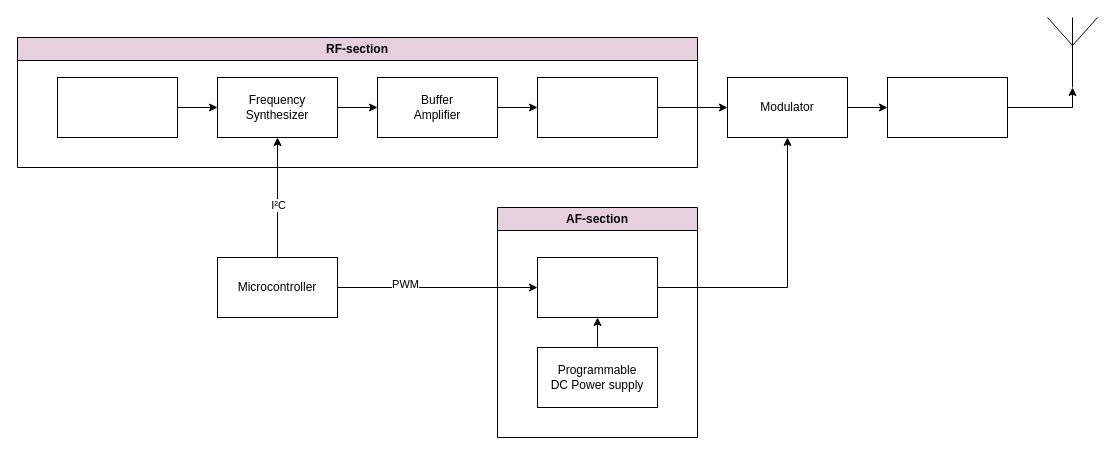
The diagram is 1115 pixels wide and 455 high, and some of its shapes have lost their labels. The shapes that lost their labels are listed below. From the top down, each one's centre as x and y in pixels, then its label:
the point at 117,107: Crystal Oscillator
the point at 597,107: RF Power Amplifier
the point at 947,107: Output Filter
the point at 597,287: AF Power Amplifier
